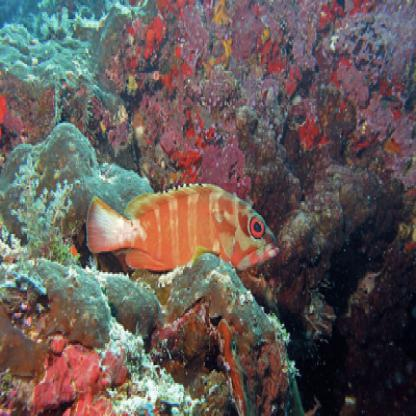grouper: (85, 176, 278, 277)
